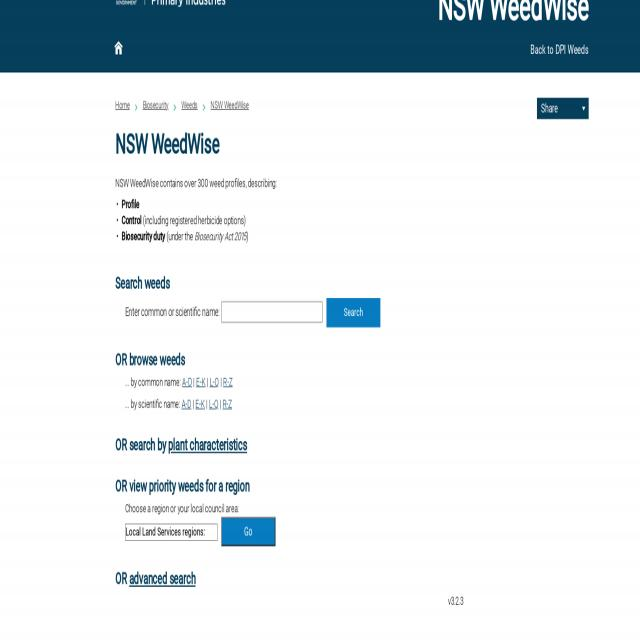button: (326, 298, 381, 327), (221, 517, 276, 546), (537, 98, 589, 119), (111, 32, 128, 72)
field: (221, 301, 323, 322), (125, 524, 217, 542)
